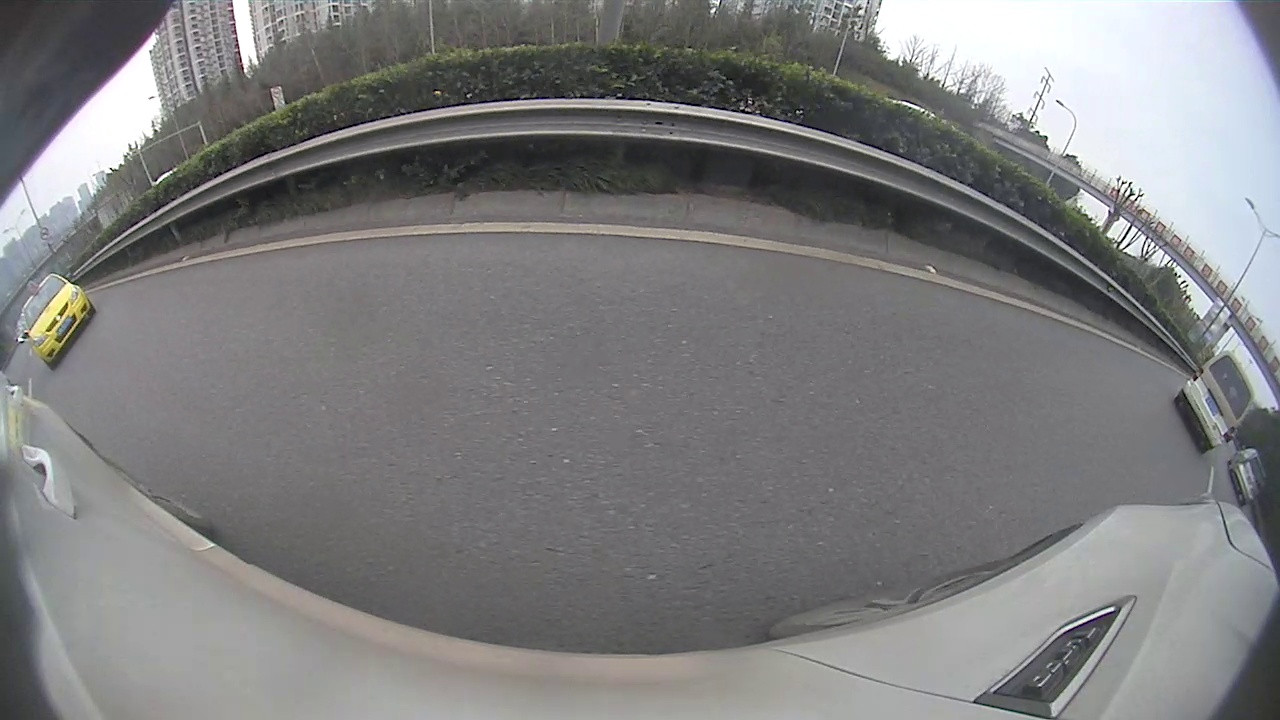car: (1170, 347, 1255, 455), (13, 274, 104, 369), (1227, 447, 1263, 509)
